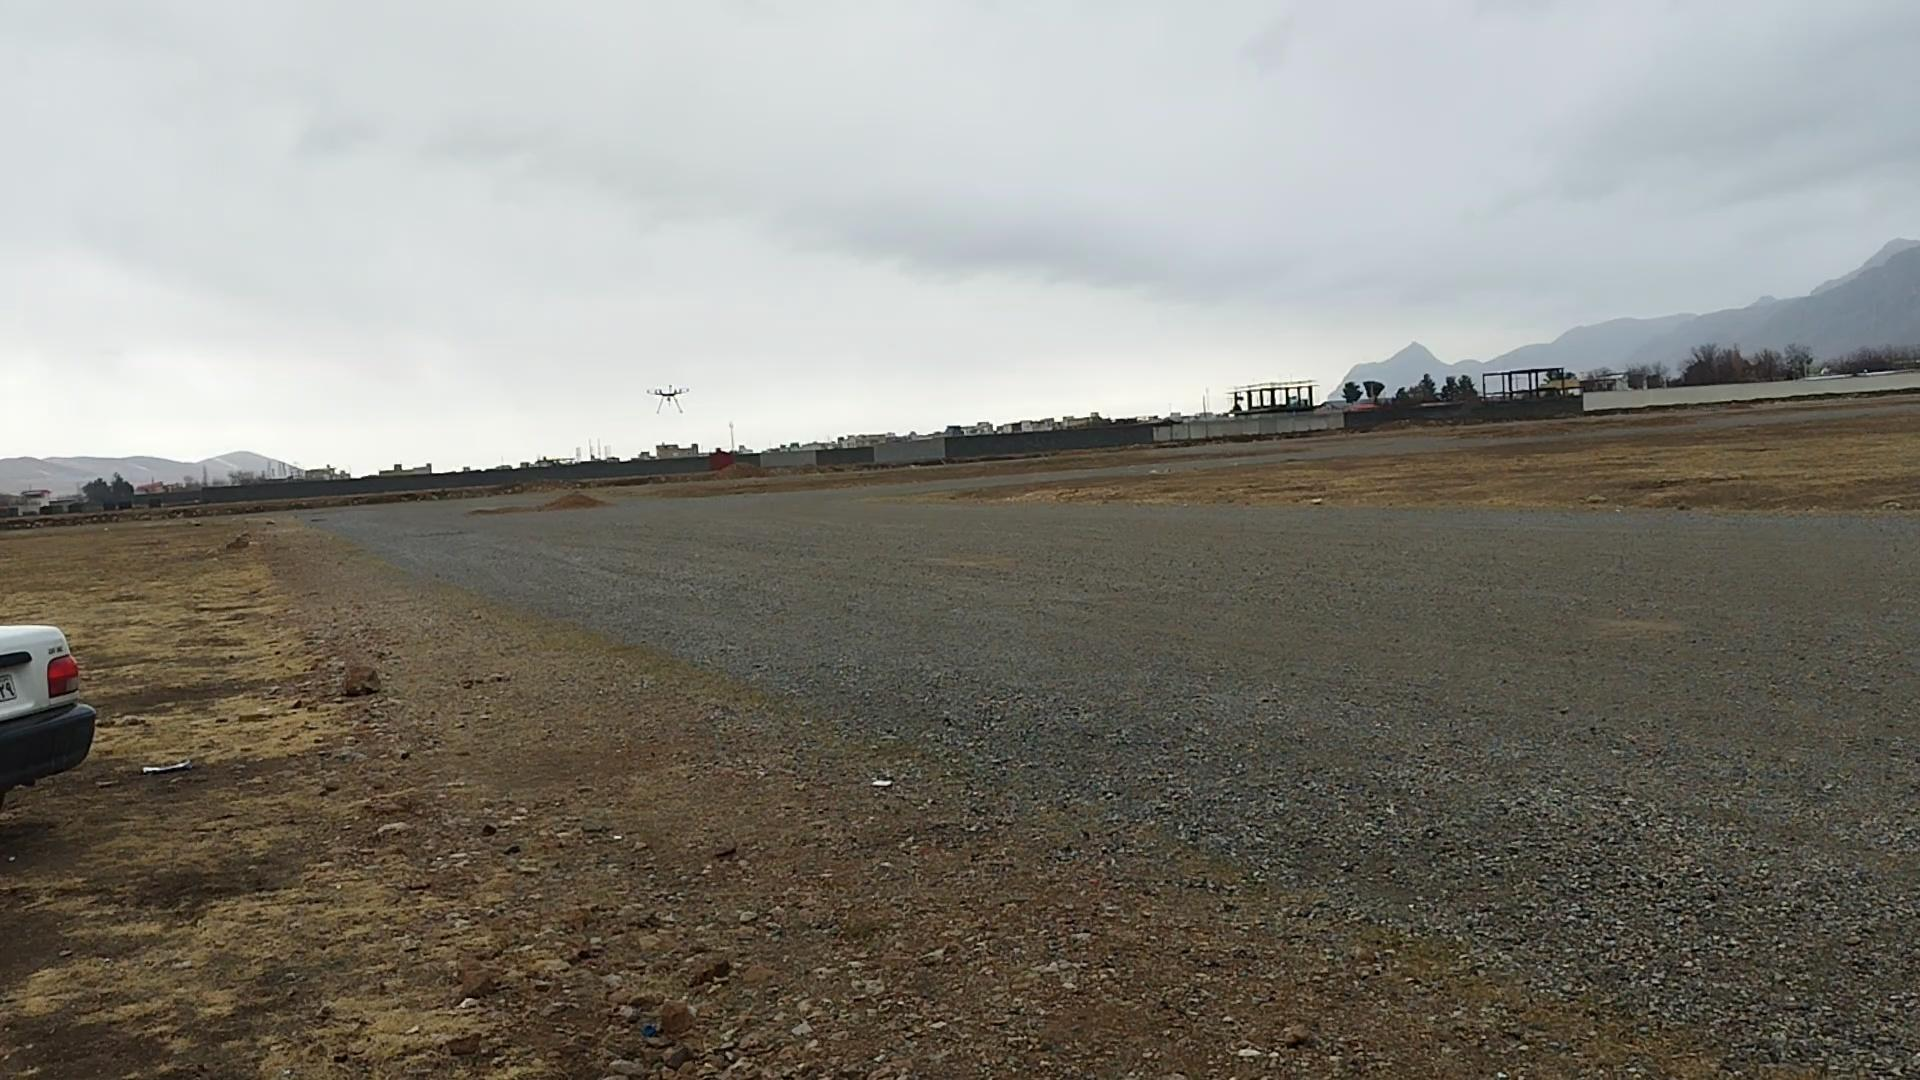drone: (644, 380, 691, 414)
